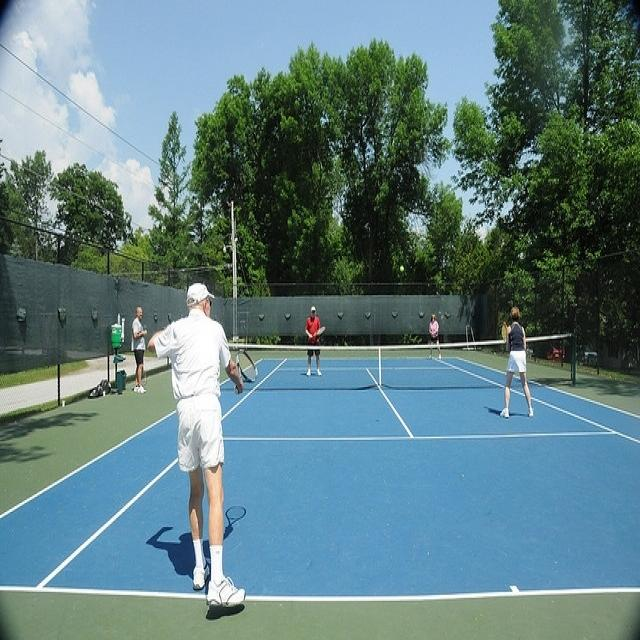ball: (399, 264, 405, 274)
